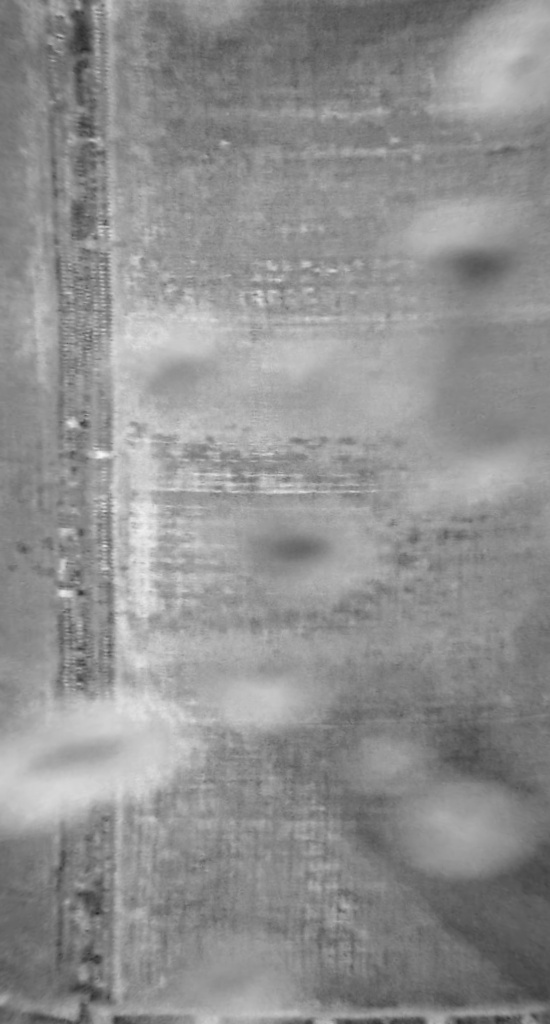splice: (35, 1, 132, 1023)
